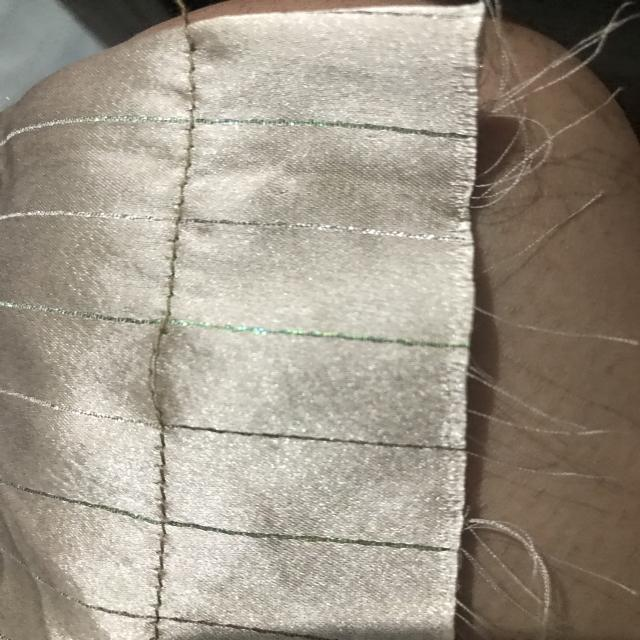good: (158, 168, 195, 263)
skip: (142, 298, 185, 429)
